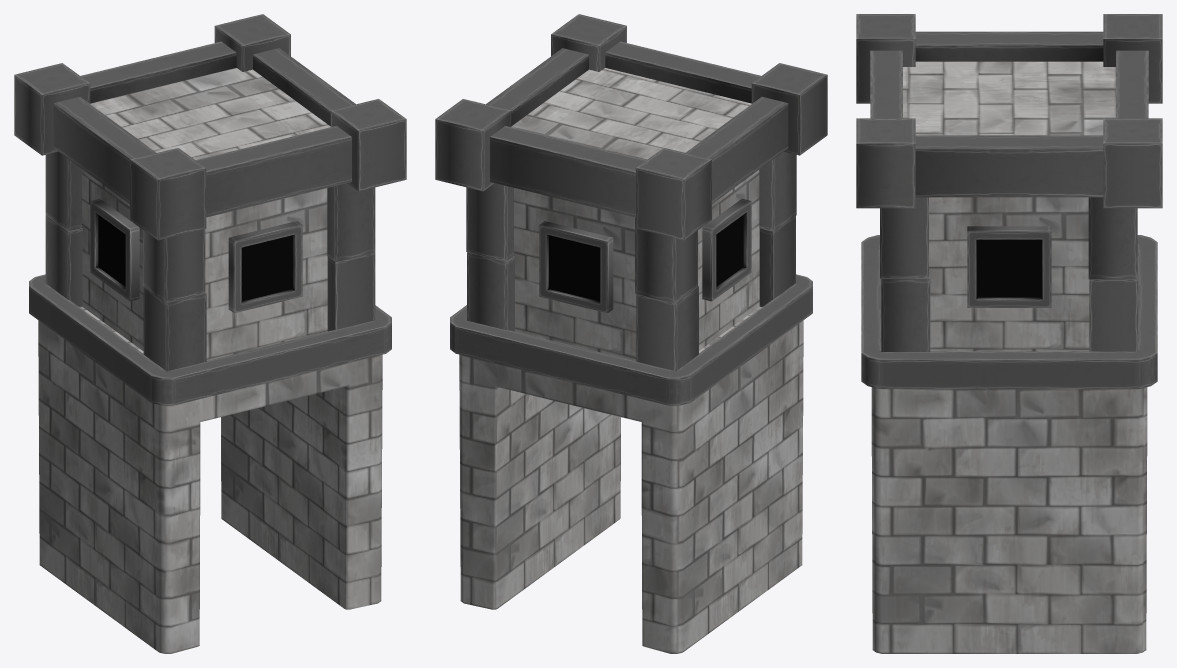
File: SM_Tower_01_A.fbx
3 views of the same model, side by side, from view 1: azimuth 30°, elevation 25°; view 2: azimuth 150°, elevation 25°; view 3: azimuth 270°, elevation 25° (orthographic). The views are drawn at different scales.
Parts seen in each view (by area): view 1: polySurface226; view 2: polySurface226; view 3: polySurface226.
Boxes of the visible parts, left/top/right/bottom form: polySurface226: left=14, top=14, right=406, bottom=653; polySurface226: left=435, top=14, right=827, bottom=653; polySurface226: left=856, top=14, right=1162, bottom=653.
Size of the model in its own units: 289 by 537 by 289.
